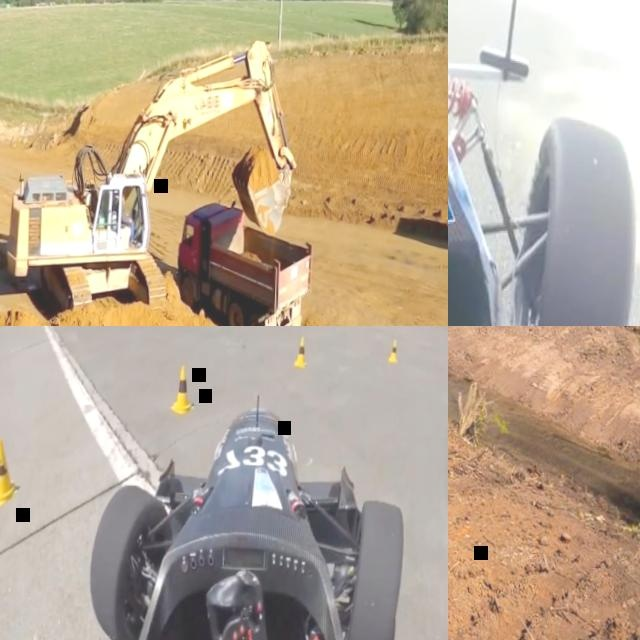NO-Hardhat: (121, 195, 124, 201)
NO-Safety Vest: (116, 205, 127, 226)
Person: (119, 195, 137, 249)
Safety Cone: (0, 429, 22, 510), (170, 363, 199, 417), (293, 337, 307, 372), (389, 340, 402, 364)
machinery: (3, 30, 300, 323), (173, 196, 315, 326)
vehicle: (77, 389, 439, 640), (448, 0, 640, 326)
